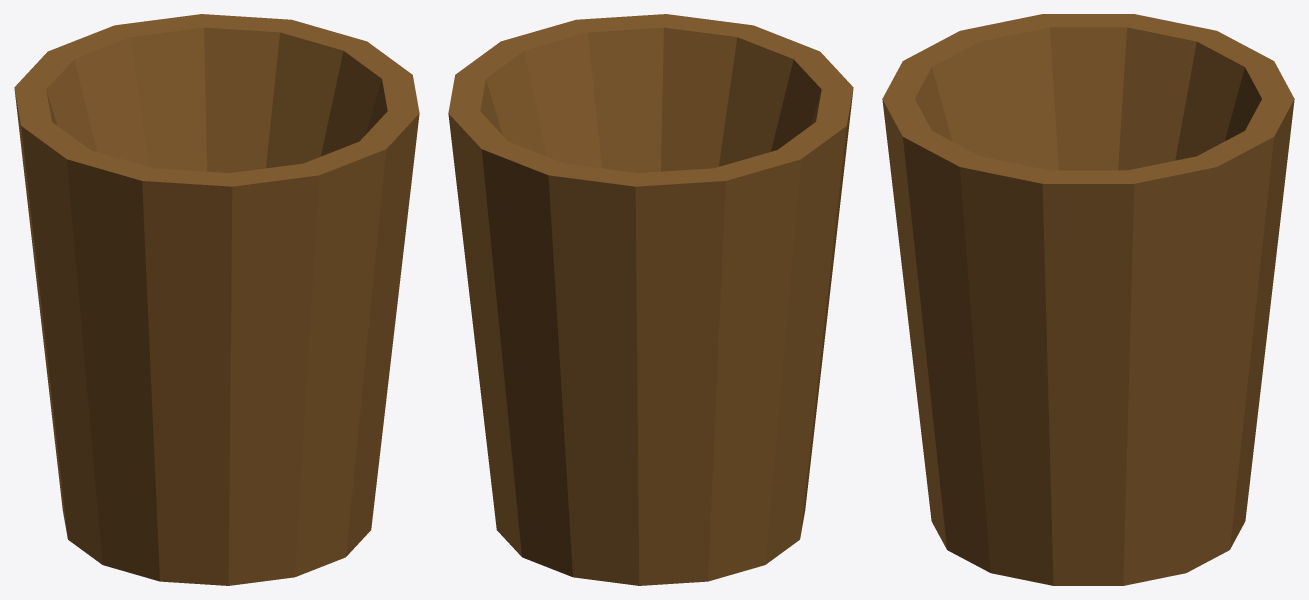
The model's file is Cup_1.fbx.
The picture shows the model from 3 angles, left to right: view 1: azimuth 30°, elevation 25°; view 2: azimuth 150°, elevation 25°; view 3: azimuth 270°, elevation 25°; orthographic projection.
Parts seen in each view (by area): view 1: Cup_1; view 2: Cup_1; view 3: Cup_1.
Boxes of the visible parts, box(x1,y1,x2,y2) form: Cup_1: box(14, 14, 419, 585); Cup_1: box(448, 14, 853, 585); Cup_1: box(882, 14, 1294, 585).
Size of the model in its own units: 0.0285 by 0.033 by 0.0292.
